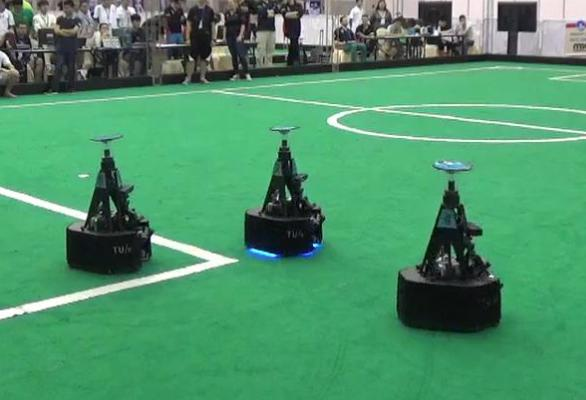robot: (396, 155, 505, 333), (61, 127, 156, 275), (241, 123, 327, 261)
